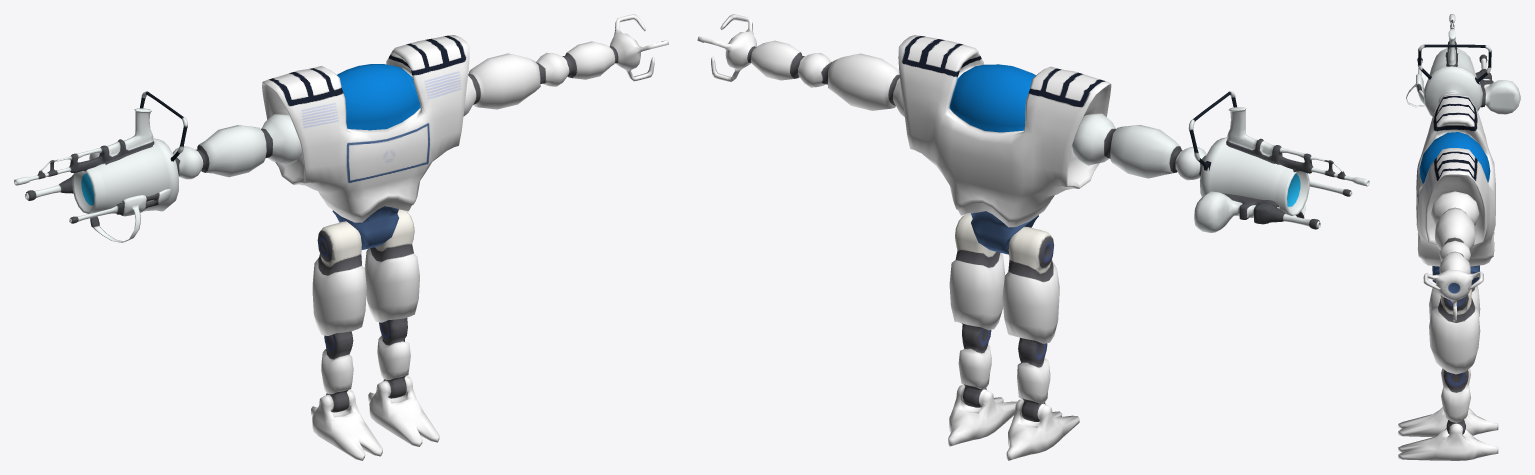
Rendered from Robot+arma.FBX.
3 renders of one model, left to right at view 1: azimuth 30°, elevation 25°; view 2: azimuth 150°, elevation 25°; view 3: azimuth 270°, elevation 25°, orthographic. The views are drawn at different scales.
Parts seen in each view (by area): view 1: Group1, Group2; view 2: Group1, Group2; view 3: Group1, Group2.
Part boxes in pixels (x1=…): Group1: x1=262, y1=14, x2=668, y2=460; Group2: x1=14, y1=91, x2=302, y2=242; Group1: x1=697, y1=14, x2=1111, y2=460; Group2: x1=1072, y1=91, x2=1369, y2=232; Group1: x1=1398, y1=94, x2=1498, y2=460; Group2: x1=1406, y1=14, x2=1520, y2=116.
Bounding box in the file's own units: 145 × 81.4 × 28.33.
Materials: 2 (2 with a texture image).
